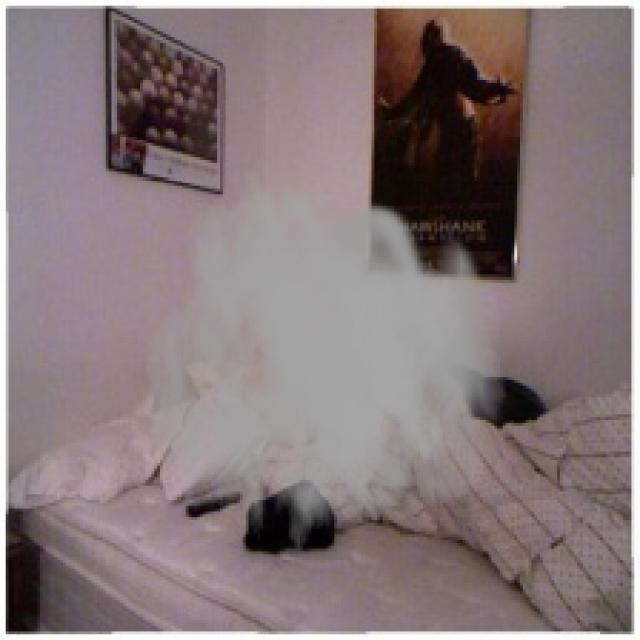smoke: (143, 169, 506, 574)
